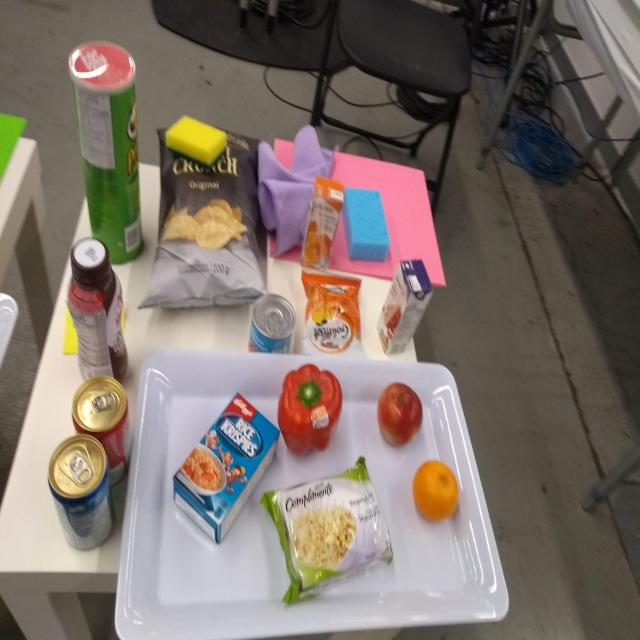apple: (373, 379, 424, 450)
cereal: (169, 387, 281, 542)
chocolate_drink: (63, 240, 135, 390)
crackers: (298, 270, 367, 352)
grape_juice: (374, 254, 434, 358)
noodles: (263, 454, 392, 604)
orange: (412, 457, 461, 524)
orange_juice: (297, 175, 346, 273)
paprika: (277, 361, 348, 460)
potato_chips: (138, 120, 270, 319)
pringles: (66, 38, 148, 270)
sausages: (247, 289, 296, 358)
scrubby: (164, 109, 231, 171)
sponge_opl: (340, 186, 394, 266)
sprite: (45, 434, 117, 558)
